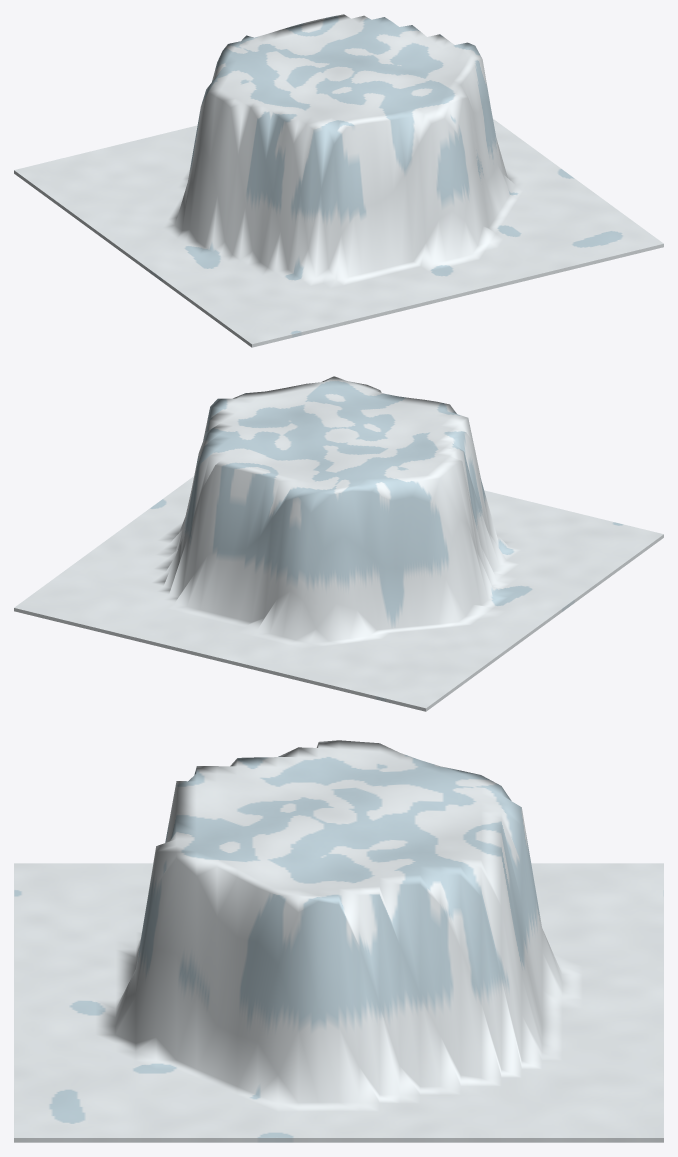
File: Snow_Mountains_10.obj
3 views of the same model, one above another, from view 1: azimuth 30°, elevation 25°; view 2: azimuth 150°, elevation 25°; view 3: azimuth 270°, elevation 25° (orthographic). The views are drawn at different scales.
Size of the model in its own units: 10 by 3.24 by 10.
Materials: 1 (1 with a texture image).
